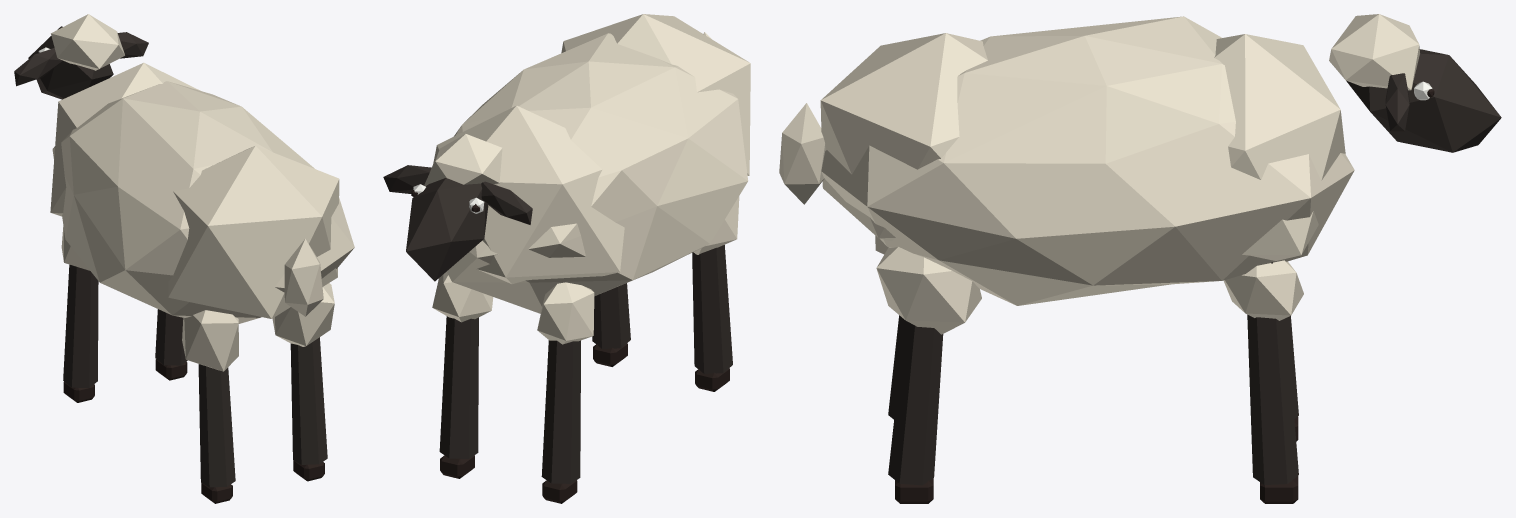
Rendered from sm_env_animal_sheep.glb.
The picture shows the model from 3 angles, left to right: view 1: azimuth 30°, elevation 25°; view 2: azimuth 150°, elevation 25°; view 3: azimuth 270°, elevation 25°; orthographic projection. The views are drawn at different scales.
Parts seen in each view (by area): view 1: Fleece, FleeceRump, FleeceShoulder, Legs_BackLeg.001, Legs_BackLeg, Legs_FrontLeg, Legs_BackWool, Topknot, TailMesh, Legs_BackWool.001, Face, Legs_FrontLeg.001 (+7 smaller); view 2: Fleece, FleeceShoulder, FleeceRump, Face, Legs_FrontLeg, Legs_FrontLeg.001, Legs_BackLeg, Legs_FrontWool, Topknot, Legs_BackLeg.001, Legs_FrontWool.001, Ear (+6 smaller); view 3: Fleece, FleeceRump, FleeceShoulder, Face, Legs_FrontLeg.001, Legs_BackLeg.001, Legs_BackWool.001, Topknot, Legs_FrontWool.001, TailMesh, Ear.001, Legs_FrontHoof.001 (+1 smaller).
Boxes of the visible parts, x1,y1,x2,y2 form: Fleece: [52, 81, 354, 323]; FleeceRump: [168, 145, 339, 318]; FleeceShoulder: [50, 62, 200, 216]; Legs_BackLeg.001: [290, 337, 327, 464]; Legs_BackLeg: [198, 364, 235, 487]; Legs_FrontLeg: [63, 264, 98, 387]; Legs_BackWool: [182, 310, 238, 371]; Topknot: [51, 14, 124, 70]; TailMesh: [284, 239, 323, 316]; Legs_BackWool.001: [272, 283, 334, 346]; Face: [28, 26, 113, 99]; Legs_FrontLeg.001: [155, 309, 187, 365]; Fleece: [446, 33, 748, 313]; FleeceShoulder: [433, 105, 624, 284]; FleeceRump: [561, 14, 750, 175]; Face: [406, 178, 488, 281]; Legs_FrontLeg: [541, 340, 580, 483]; Legs_FrontLeg.001: [439, 316, 478, 458]; Legs_BackLeg: [692, 245, 732, 373]; Legs_FrontWool: [537, 282, 594, 344]; Topknot: [424, 134, 502, 186]; Legs_BackLeg.001: [592, 283, 630, 348]; Legs_FrontWool.001: [432, 272, 493, 322]; Ear: [481, 181, 532, 224]; Fleece: [821, 16, 1354, 305]; FleeceRump: [820, 33, 987, 240]; FleeceShoulder: [1214, 34, 1345, 260]; Face: [1346, 49, 1501, 152]; Legs_FrontLeg.001: [1247, 262, 1298, 484]; Legs_BackLeg.001: [888, 320, 943, 485]; Legs_BackWool.001: [876, 247, 981, 334]; Topknot: [1329, 14, 1419, 90]; Legs_FrontWool.001: [1223, 260, 1303, 320]; TailMesh: [779, 103, 825, 204]; Ear.001: [1385, 73, 1409, 131]; Legs_FrontHoof.001: [1260, 476, 1298, 503].
Size of the model in its own units: 0.5115 by 0.7863 by 1.13.
